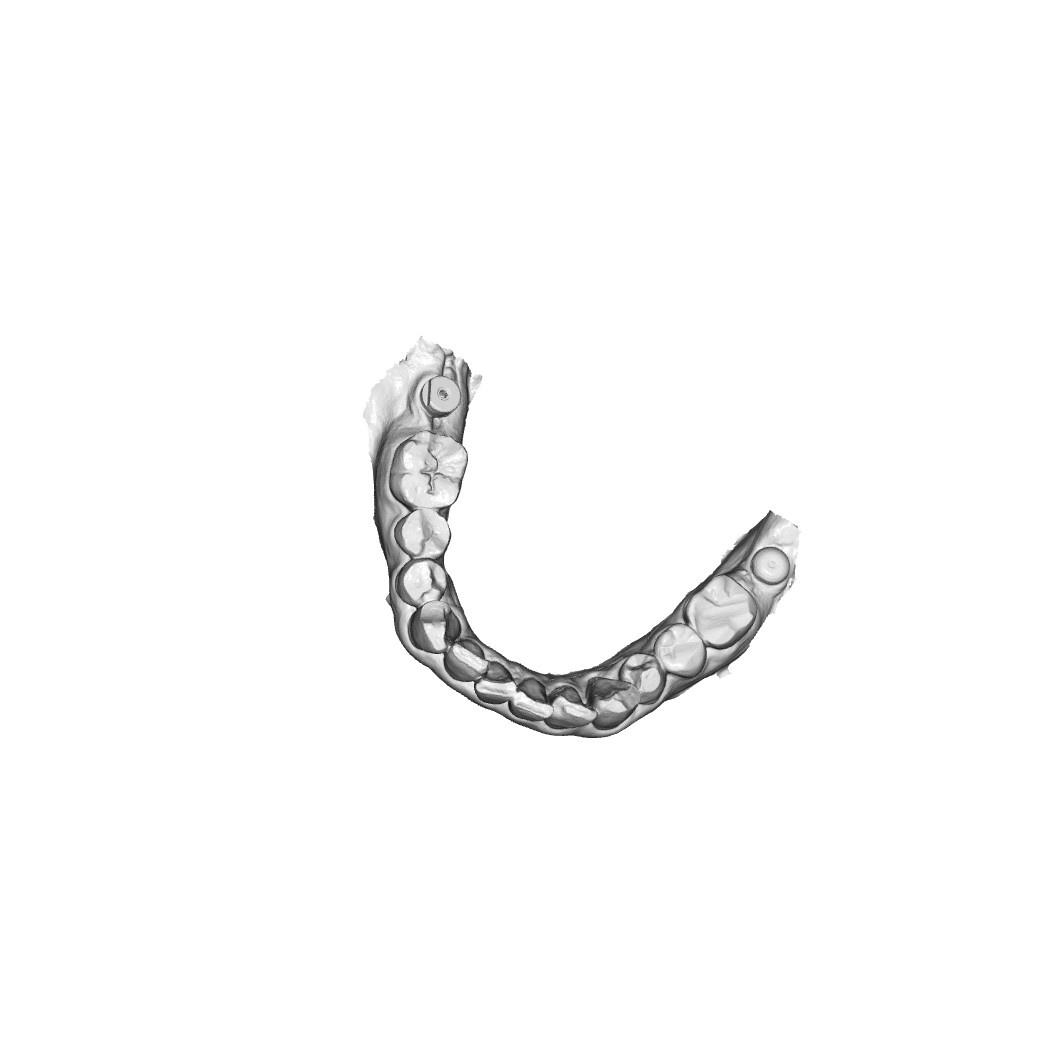canine: (408, 602, 460, 654), (591, 676, 640, 728)
implant: (416, 370, 468, 416), (752, 545, 793, 586)
incisor: (507, 678, 554, 727), (443, 639, 491, 684), (552, 684, 594, 734), (476, 657, 512, 707)
molar: (396, 432, 466, 510), (688, 576, 757, 646)
premolar: (654, 623, 707, 673), (397, 509, 449, 558), (396, 560, 448, 604), (623, 655, 669, 704)
